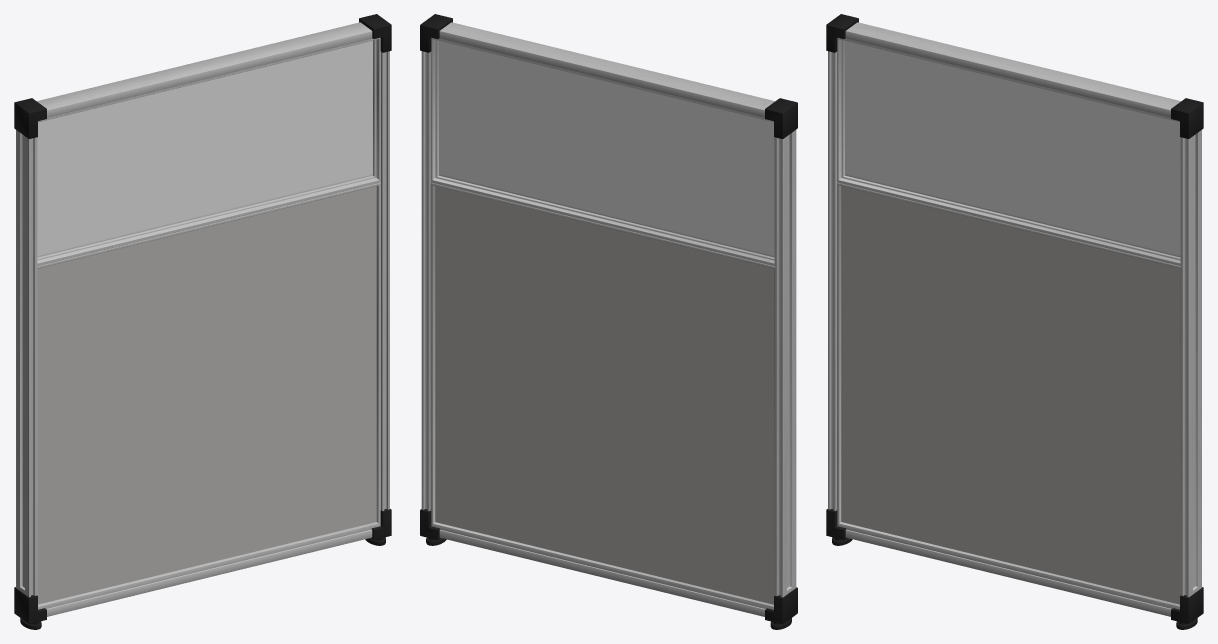
File: Partition.fbx
3 views of the same model, side by side, from view 1: azimuth 30°, elevation 25°; view 2: azimuth 150°, elevation 25°; view 3: azimuth 330°, elevation 25° (orthographic).
Visible parts, largest first — view 1: Partition; view 2: Partition; view 3: Partition.
Boxes of the visible parts, <box> form: Partition: <box>14,14,391,629</box>; Partition: <box>420,14,797,629</box>; Partition: <box>826,14,1203,629</box>.
Bounding box in the file's own units: 1.5 × 2.05 × 0.1084.
